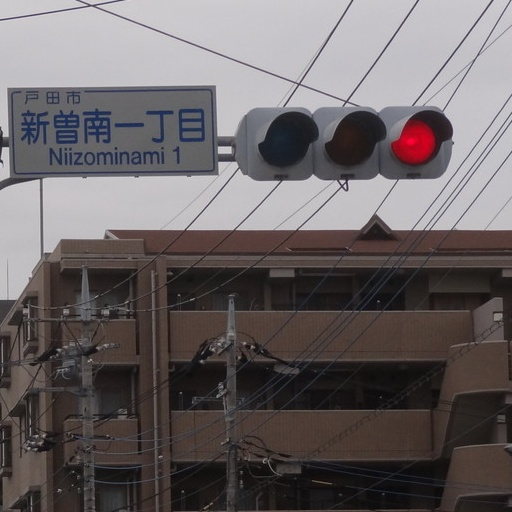Traffic_Signal_Red: (238, 100, 454, 182)
